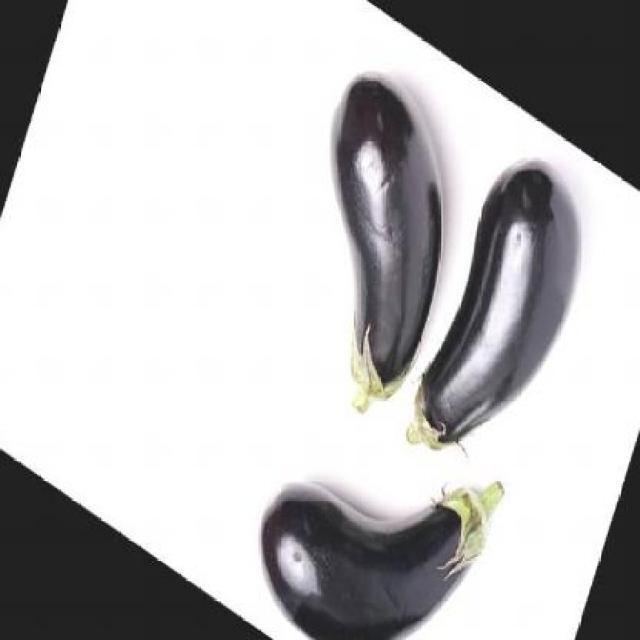eggplant: (399, 158, 578, 452), (327, 71, 453, 418), (258, 473, 507, 638)
